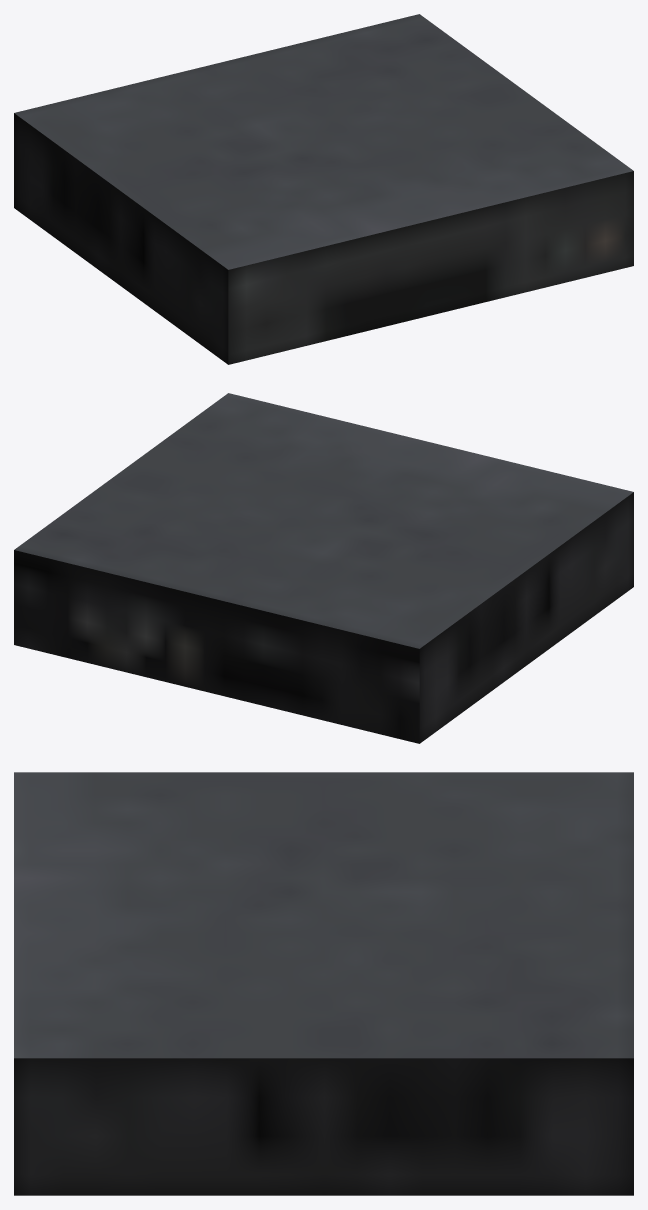
File: SM_EC_VRC_0.fbx
3 renders of one model, top to bottom at view 1: azimuth 30°, elevation 25°; view 2: azimuth 150°, elevation 25°; view 3: azimuth 270°, elevation 25°, orthographic. The views are drawn at different scales.
Visible parts, largest first — view 1: SM_EC_VRC_0; view 2: SM_EC_VRC_0; view 3: SM_EC_VRC_0.
Part boxes in pixels (left/top/right/bottom): SM_EC_VRC_0: left=14, top=14, right=633, bottom=364; SM_EC_VRC_0: left=14, top=393, right=633, bottom=743; SM_EC_VRC_0: left=14, top=772, right=633, bottom=1195.
Bounding box in the file's own units: 0.6483 × 0.5937 × 0.1451.
